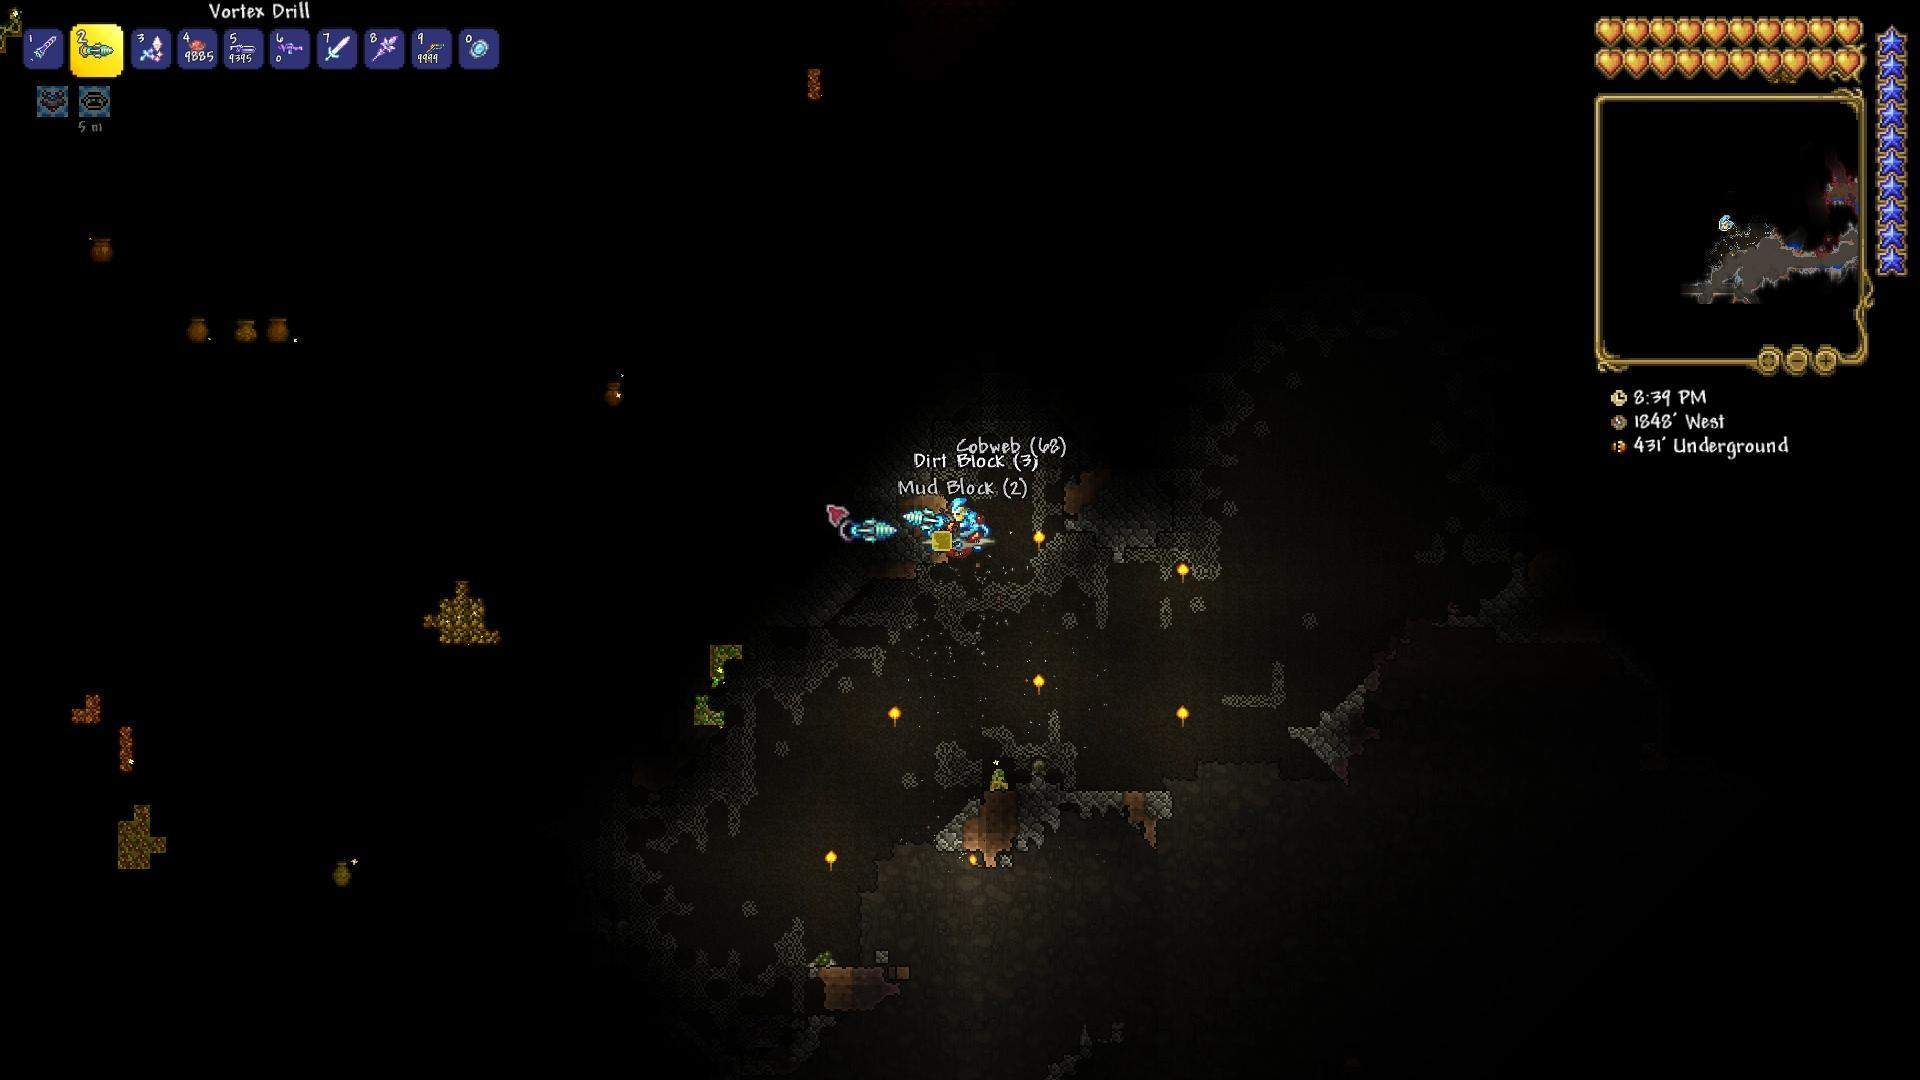cobwebT: (1040, 700, 1060, 745)
pot: (596, 375, 632, 414), (229, 310, 261, 344), (327, 855, 356, 891), (264, 310, 293, 345), (185, 311, 215, 343), (88, 228, 113, 262)
